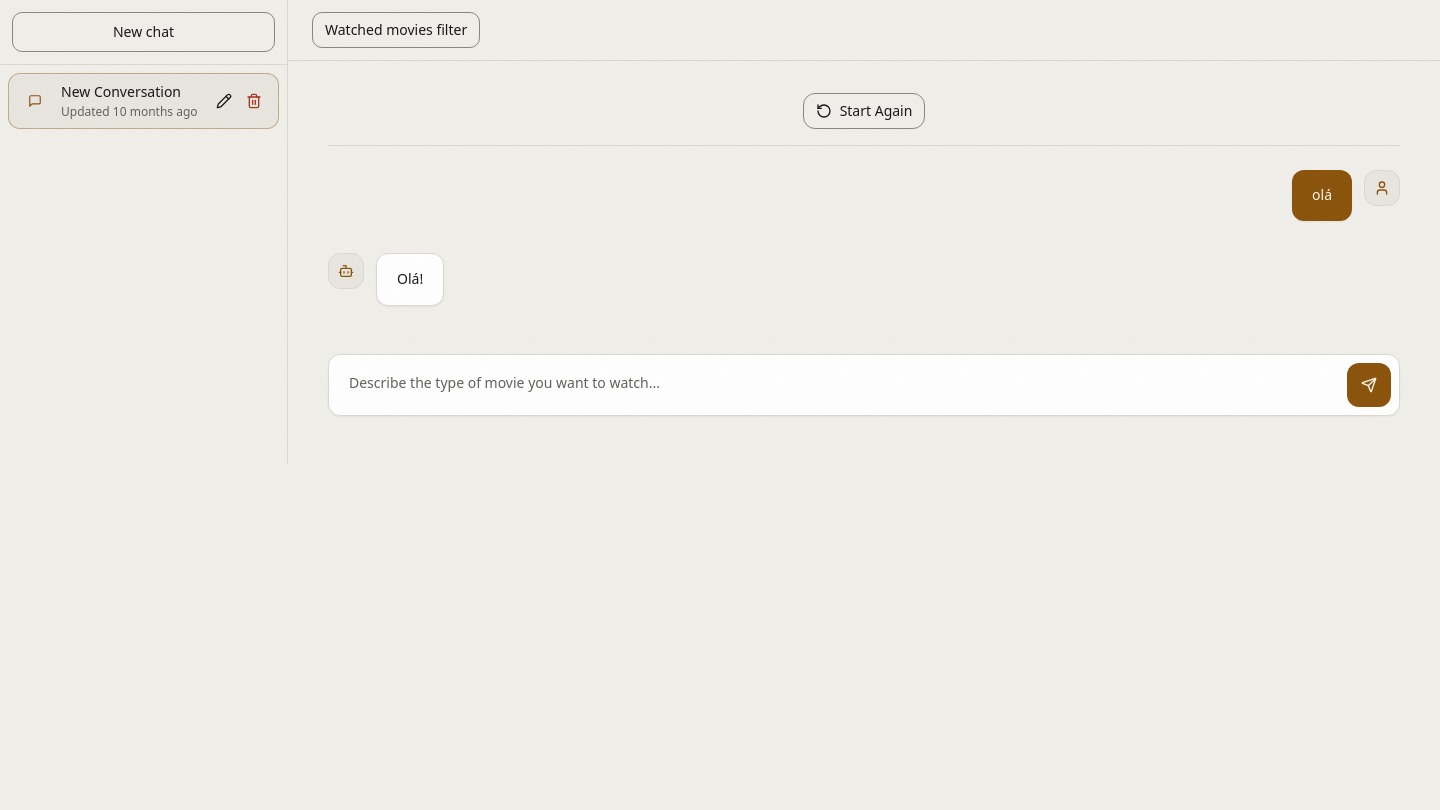
Scenario: GroupChatPage › REQ-6: abre dialog de filtro de assistidos
Click the button "Watched movies filter" at {"x": 396, "y": 30}, box left=312, top=12, right=480, bottom=48
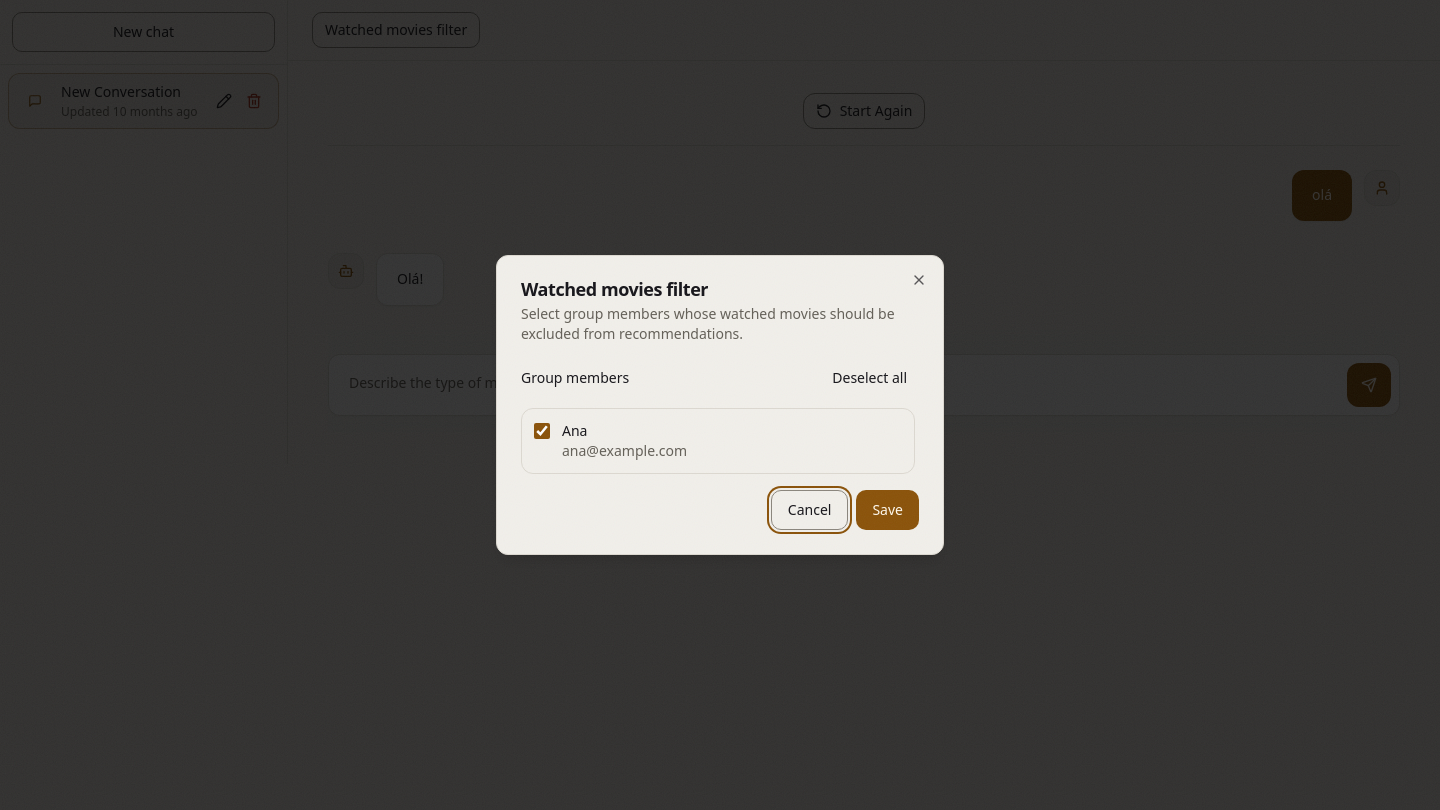
Expected: the heading "Watched movies filter" is shown, left=521, top=277, right=708, bottom=301
